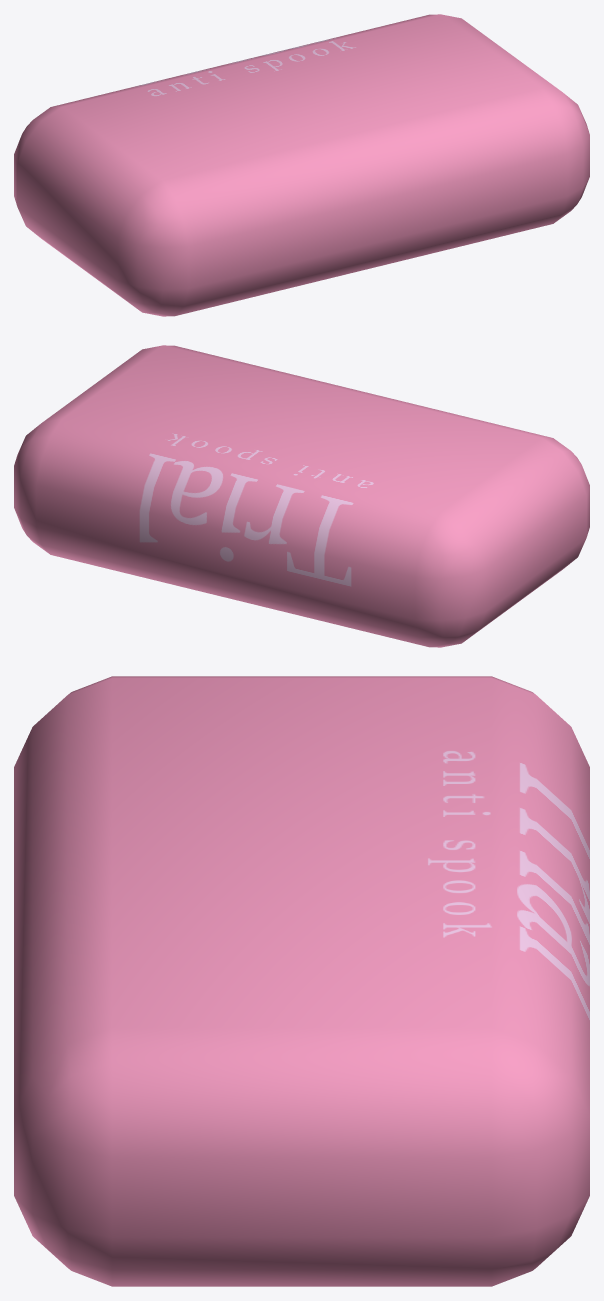
File: soap.obj
The picture shows the model from 3 angles, top to bottom: view 1: azimuth 30°, elevation 25°; view 2: azimuth 150°, elevation 25°; view 3: azimuth 270°, elevation 25°; orthographic projection. The views are drawn at different scales.
Parts seen in each view (by area): view 1: soap_bar_high_Cube.002; view 2: soap_bar_high_Cube.002; view 3: soap_bar_high_Cube.002.
Boxes of the visible parts, x1=… form: soap_bar_high_Cube.002: x1=14, y1=14, x2=589, y2=316; soap_bar_high_Cube.002: x1=14, y1=345, x2=589, y2=647; soap_bar_high_Cube.002: x1=14, y1=676, x2=589, y2=1286.
Size of the model in its own units: 0.5447 by 0.1511 by 0.3068.
